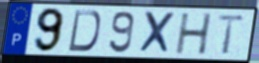9: (32, 7, 67, 53), (109, 10, 136, 54)
D: (66, 9, 103, 53)
H: (175, 12, 214, 56)
T: (216, 14, 248, 57)
X: (137, 10, 177, 55)
